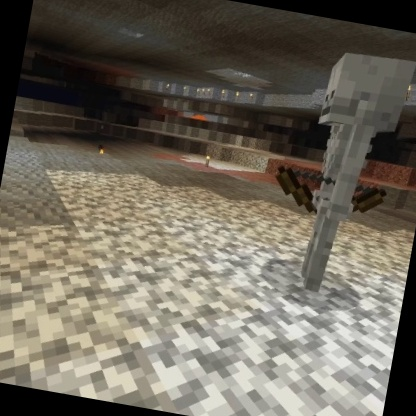skeleton: (251, 37, 416, 309)
